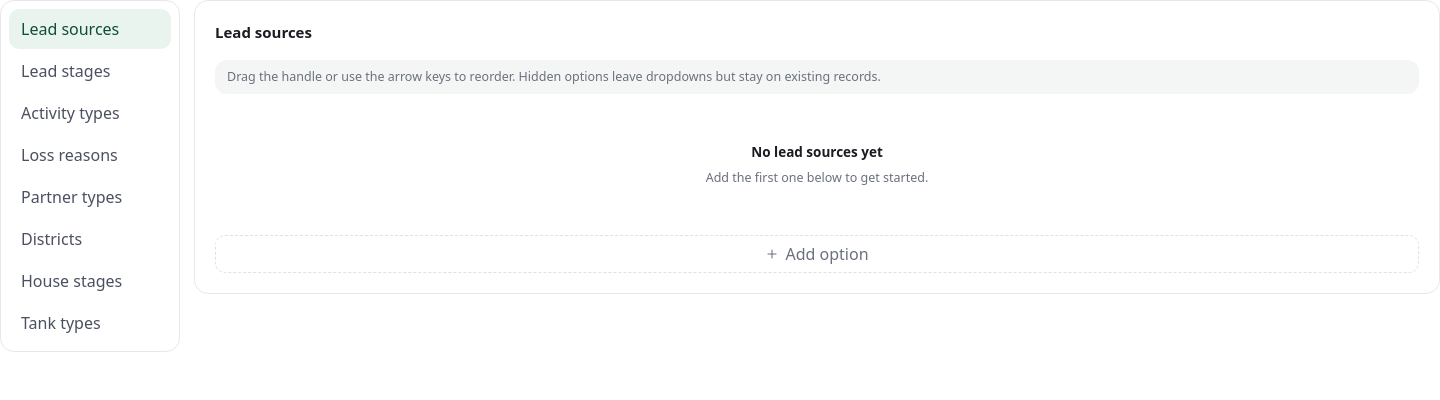
Test case: Activity types list › cancels a rename on Escape without saving
This screenshot has width=1440, height=400.
Click the tab "Activity types".
click(90, 113)  # box [9, 93, 171, 133]
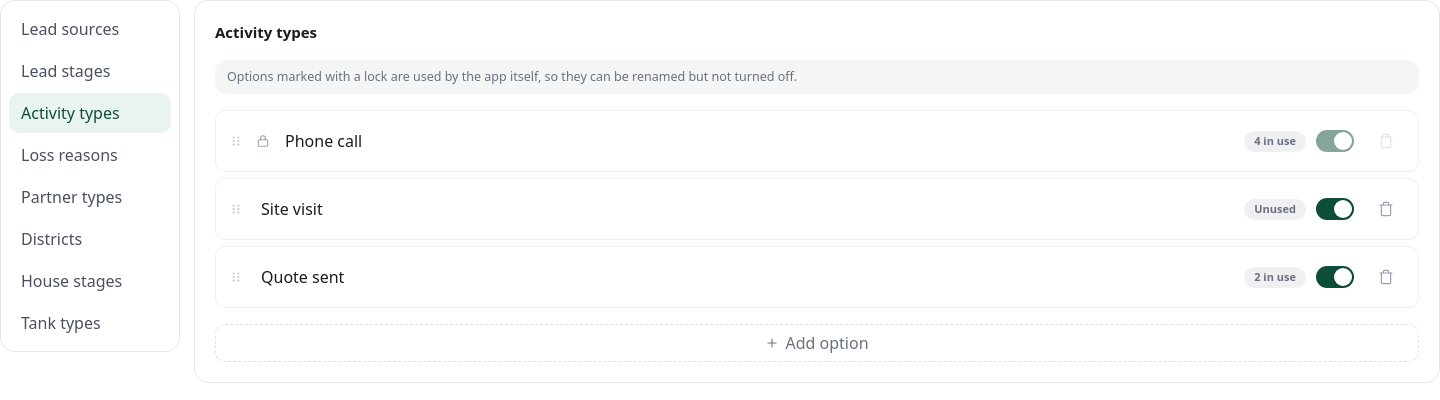
Replace the text in the field named "Rename Site visit" with "Oops" at (745, 209), box [256, 192, 1234, 226]
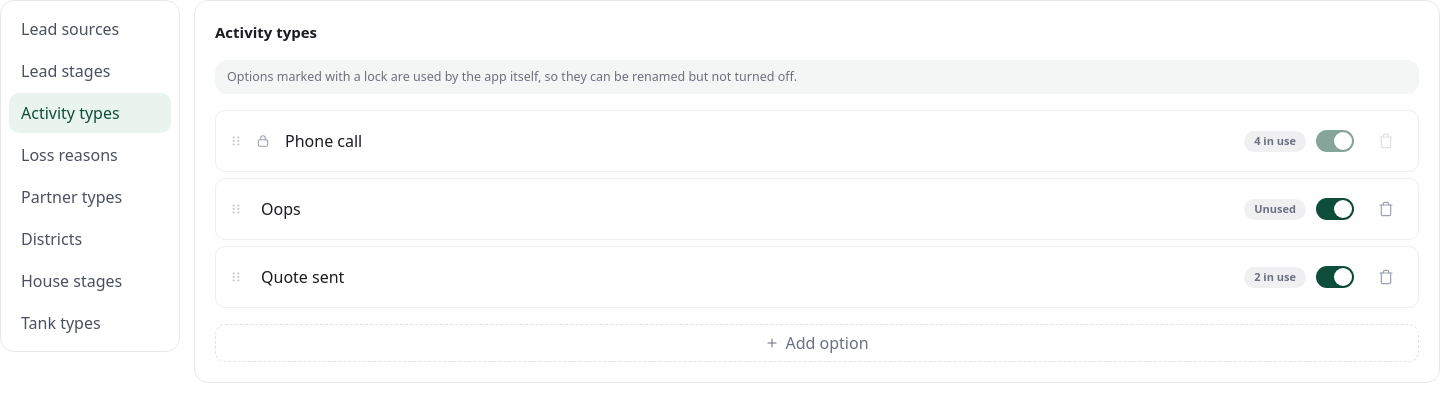
Press Escape in the field named "Rename Site visit", box [256, 192, 1234, 226]
Leave the field named "Rename Site visit", box [256, 192, 1234, 226]
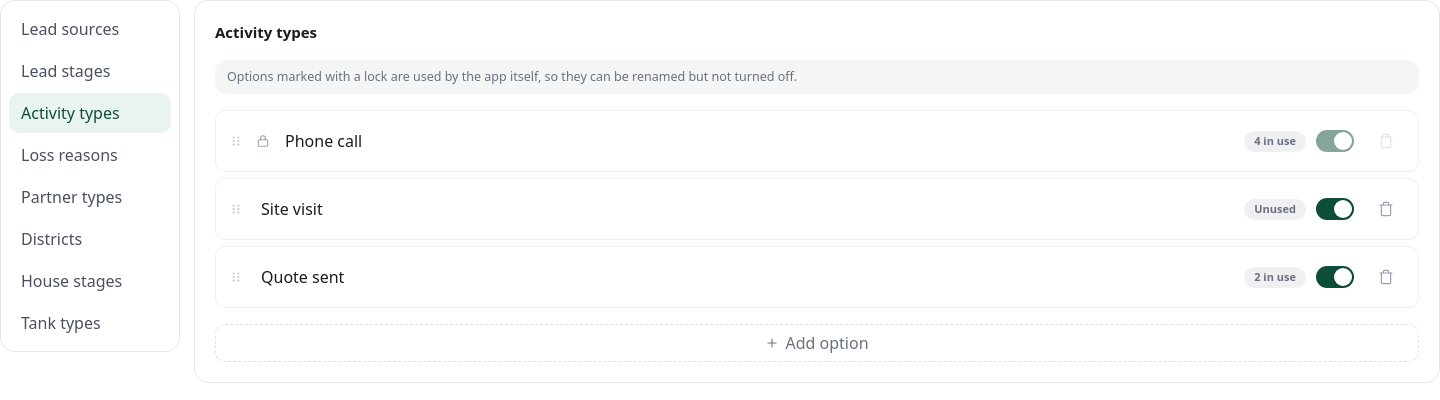
Now the field named "Rename Site visit" holds "Site visit", box [256, 192, 1234, 226]
